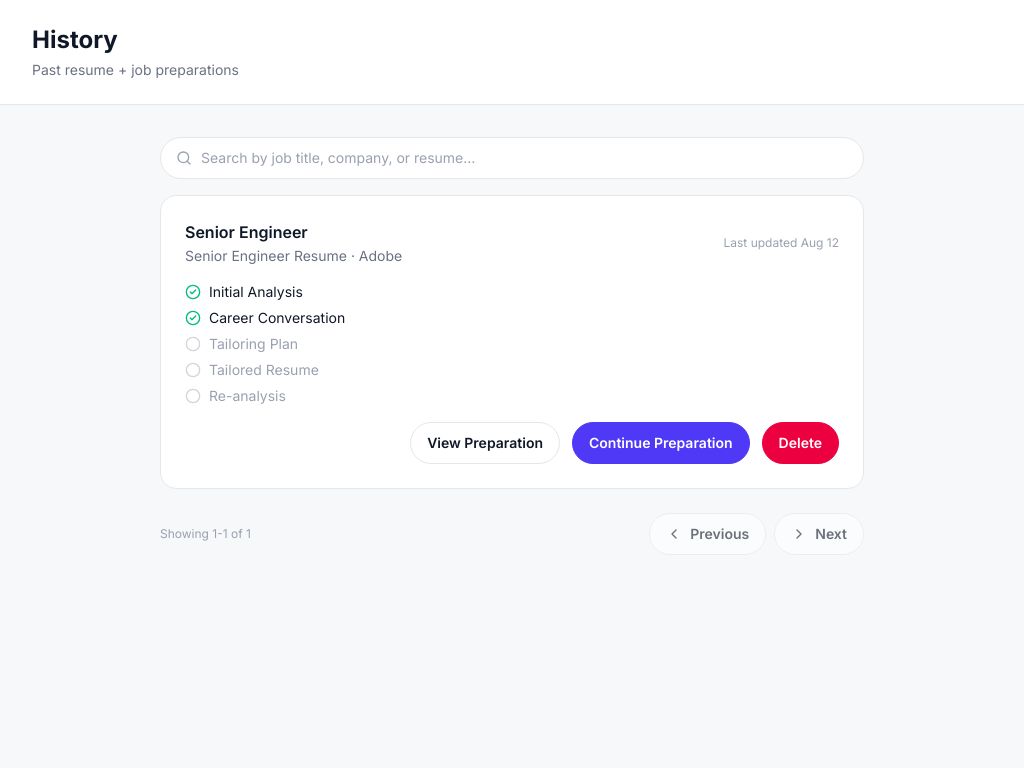
Test: HistoryPage › opens a confirmation dialog showing completed checkpoints when Continue is clicked
Click the button "Continue Preparation". click: (661, 443)
box: [572,422,750,464]
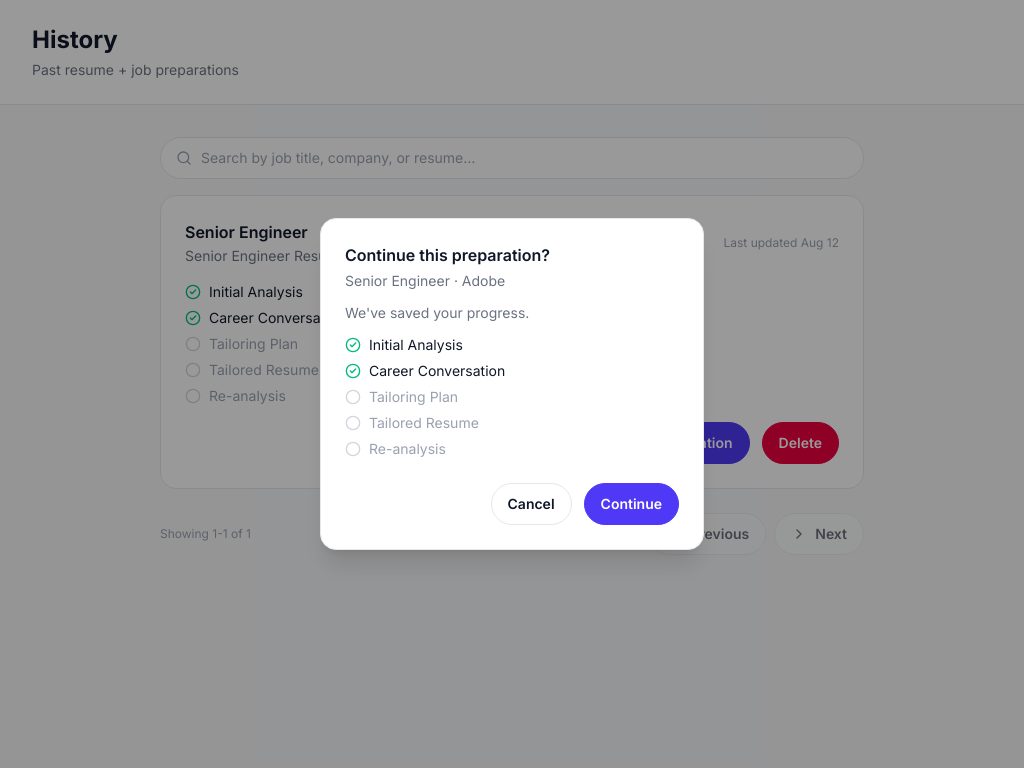
Expected: the heading "Continue this preparation?" is shown, [345,245,550,265]
Expected: the list item "Initial Analysis" is shown, [345,336,463,353]
Expected: the list item "Career Conversation" is shown, [345,362,505,379]
